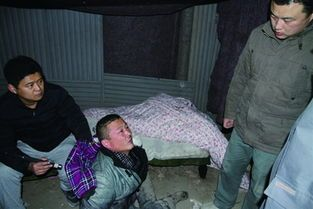fall: (42, 106, 173, 207)
